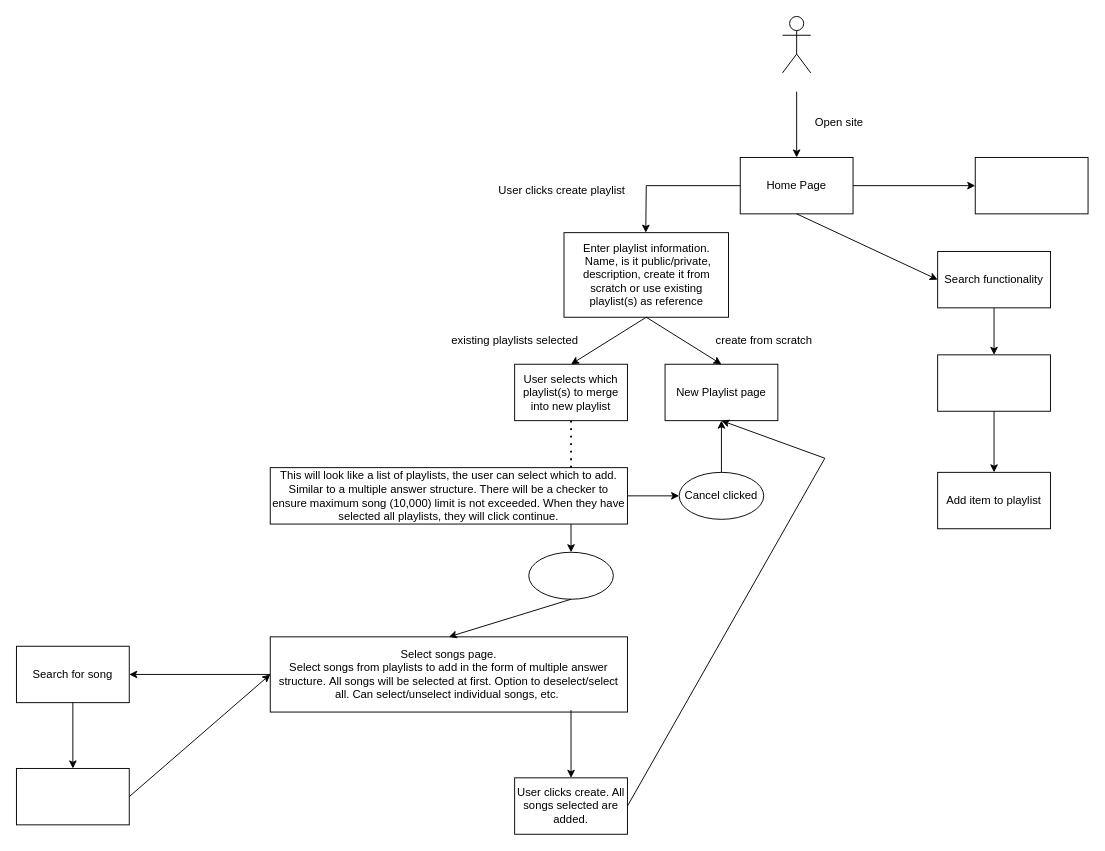
This 1105x851 diagram has some shape labels left out. The shapes that lost their labels are listed below. From the top down, each one's centre as x and y in pixels, then its label:
(x=796, y=44): Actor
(x=1031, y=185): View spotify profile
(x=993, y=382): Get results
(x=570, y=575): Continue clicked
(x=72, y=796): Add song(s) to list
